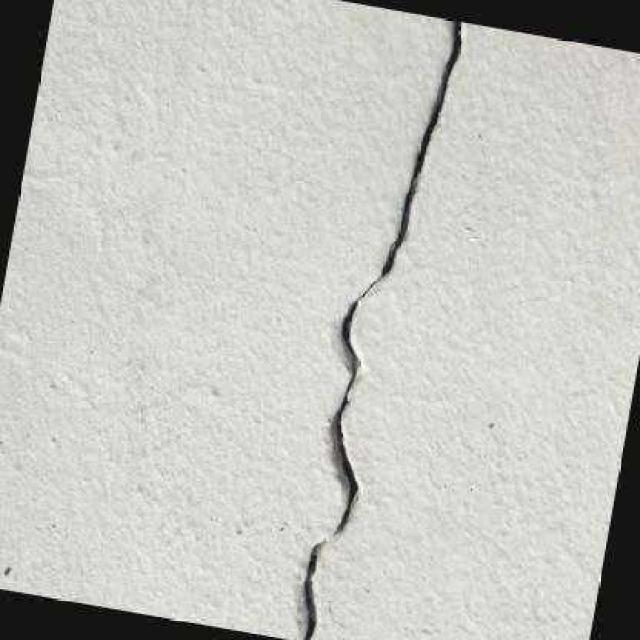D00: (299, 18, 460, 640)
